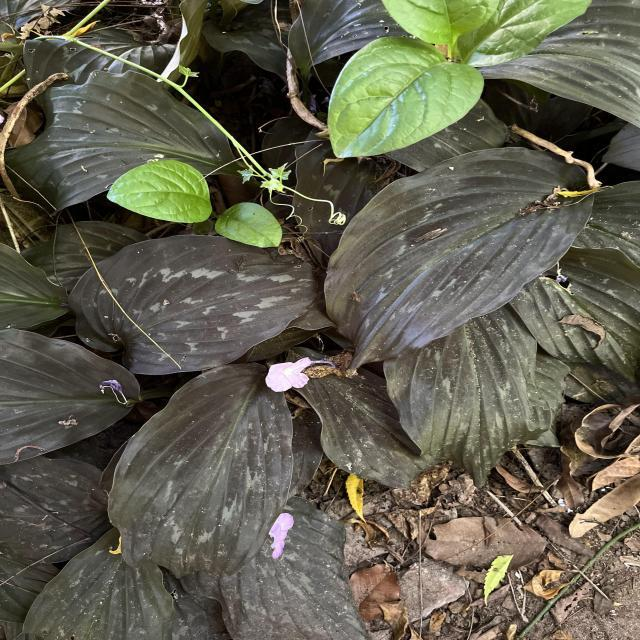Kaempferia galanga linn: (321, 145, 596, 371), (104, 361, 296, 582), (66, 233, 326, 376), (381, 303, 554, 493)
